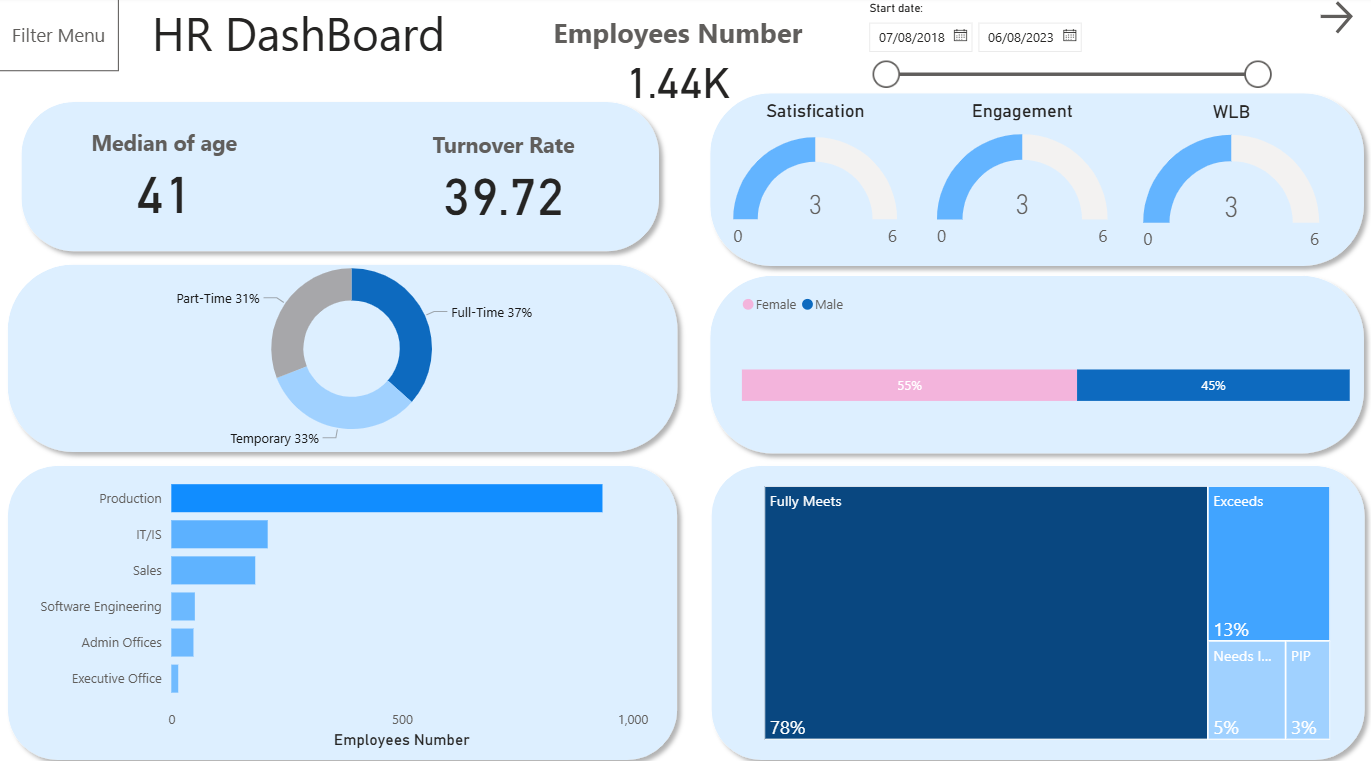

The dashboard page shown, as its layout file describes it:
{"tool":"powerbi","page":{"name":"employees","canvas":[1280,720],"ordinal":0},"visuals":[{"type":"textbox","box":[121.6,0,336.5,45.9],"z":0},{"type":"cardVisual","fields":{"Data":["CountNonNull(active_employees.empid)"]},"box":[459,0,418.3,109.7],"z":1000},{"type":"clusteredBarChart","fields":{"Category":["active_employees.department_name"],"Y":["CountNonNull(active_employees.empid)"]},"box":[0,243.1,535.9,223.9],"z":2000},{"type":"cardVisual","fields":{"Data":["Median(active_employees.tenure_in_years)","Median(active_employees.age)"]},"box":[0,99.5,596,131.1],"z":3000},{"type":"shape","box":[0,0,121.6,50],"z":4000},{"type":"donutChart","fields":{"Category":["active_employees.gendercode"],"Y":["CountNonNull(active_employees.empid)"]},"box":[1007.4,242.6,272.3,220.2],"z":5000},{"type":"cardVisual","fields":{"Data":["Median(engagement_survey.engagement_score)","Median(engagement_survey.satisfaction_score)","Median(engagement_survey.work_life_balance_score)"]},"box":[654.5,99.5,625.3,144],"z":6000},{"type":"map","fields":{"Category":["active_employees.state"],"Size":["CountNonNull(active_employees.empid)"]},"box":[0,455.3,625,264.9],"z":7000},{"type":"treemap","fields":{"Group":["active_employees.performance_score"],"Values":["CountNonNull(active_employees.ademail)"]},"box":[655,455,625,265],"z":8000}]}

Visuals, with their boxes in screenshot pixels (x1, y1, x2, y2), scaled from the page's 1280x720 canvas onto the 1371x761 screenshot:
textbox: (130,0,491,49)
cardVisual - CountNonNull(active_employees.empid): (492,0,940,116)
clusteredBarChart - active_employees.department_name x CountNonNull(active_employees.empid): (0,257,574,494)
cardVisual - Median(active_employees.tenure_in_years) x Median(active_employees.age): (0,105,638,244)
shape: (0,0,130,53)
donutChart - active_employees.gendercode x CountNonNull(active_employees.empid): (1079,256,1370,489)
cardVisual - Median(engagement_survey.engagement_score) x Median(engagement_survey.satisfaction_score): (701,105,1370,257)
map - active_employees.state x CountNonNull(active_employees.empid): (0,481,669,760)
treemap - active_employees.performance_score x CountNonNull(active_employees.ademail): (702,481,1370,760)
